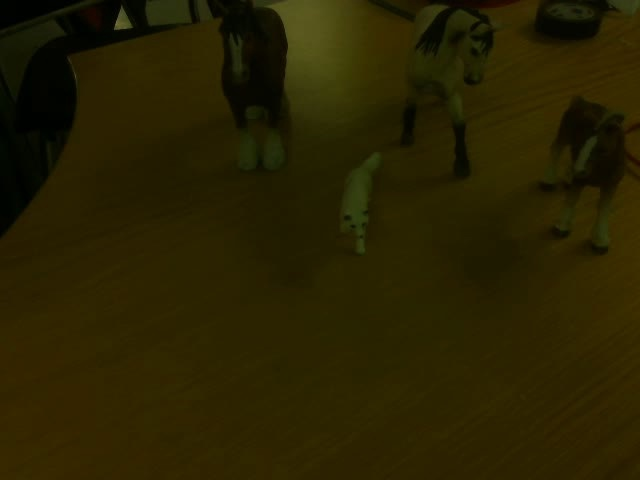toy: (400, 3, 506, 181), (210, 1, 292, 176), (539, 96, 627, 256), (334, 151, 386, 258)
